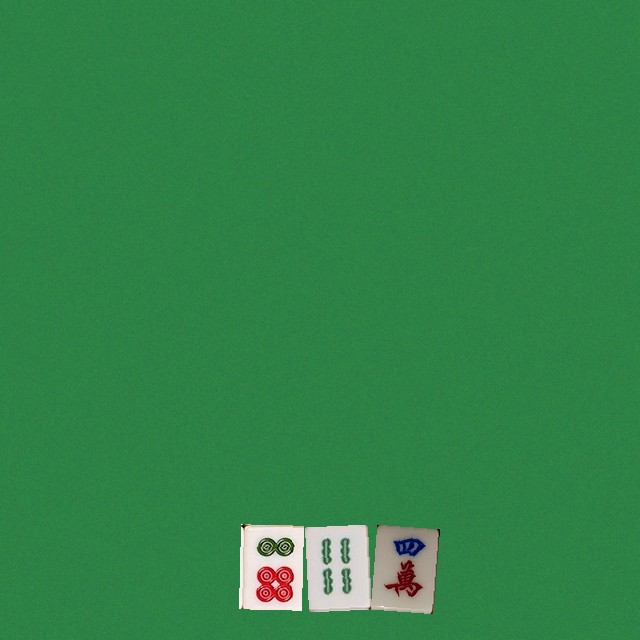tile: (238, 524, 301, 609), (304, 524, 367, 609), (370, 524, 433, 609)
